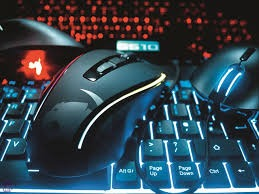mouse: (25, 45, 168, 186), (192, 44, 259, 123)
